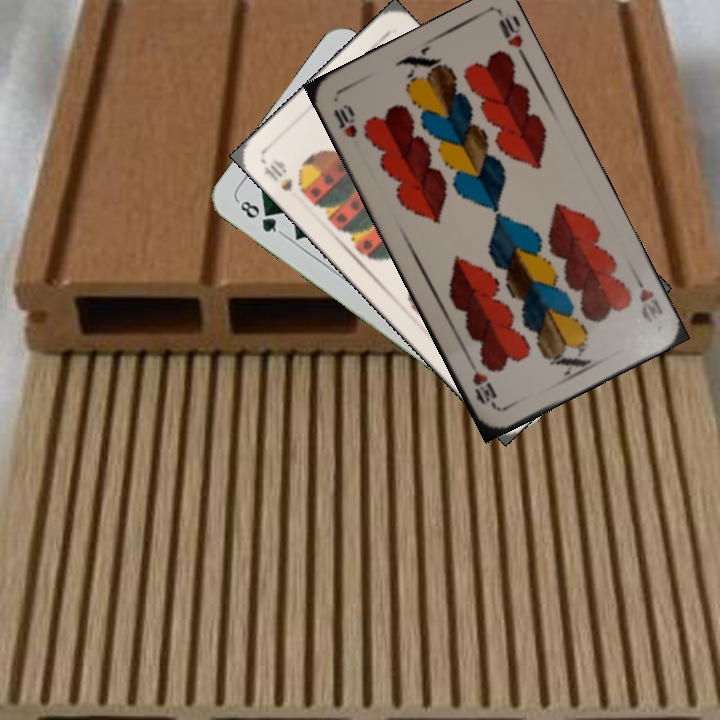G8: (233, 195, 285, 237)
H10: (629, 269, 666, 325), (329, 100, 361, 141)
S10: (259, 154, 296, 195)
